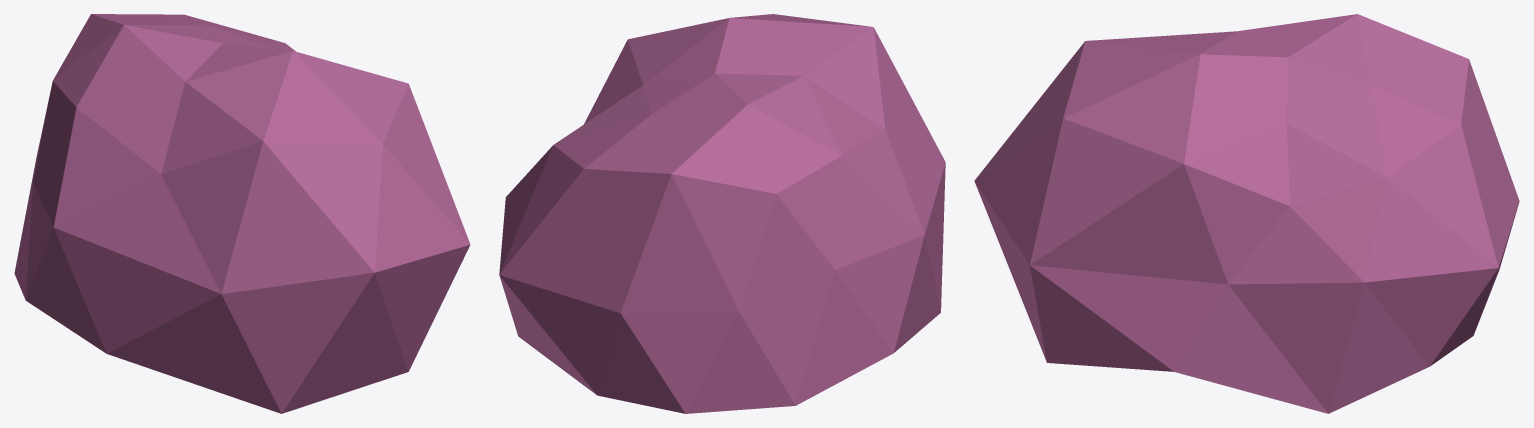
File: Mo_BushForest02.fbx
The picture shows the model from 3 angles, left to right: view 1: azimuth 30°, elevation 25°; view 2: azimuth 150°, elevation 25°; view 3: azimuth 270°, elevation 25°; orthographic projection. The views are drawn at different scales.
Parts seen in each view (by area): view 1: Icosphere; view 2: Icosphere; view 3: Icosphere.
Boxes of the visible parts, box(x1,y1,x2,y2) form: Icosphere: box(14, 14, 470, 413); Icosphere: box(499, 14, 945, 413); Icosphere: box(974, 14, 1519, 413).
Bounding box in the file's own units: 83.59 × 65.48 × 106.
